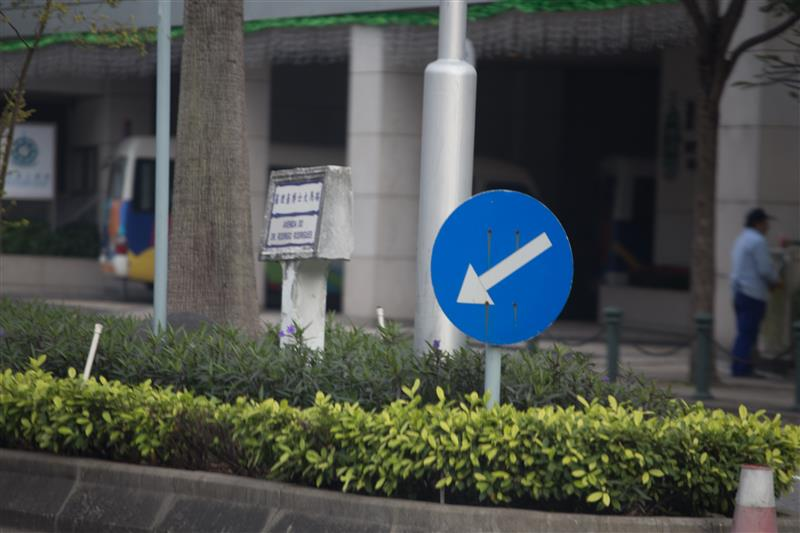keepLeft: (430, 190, 575, 346)
